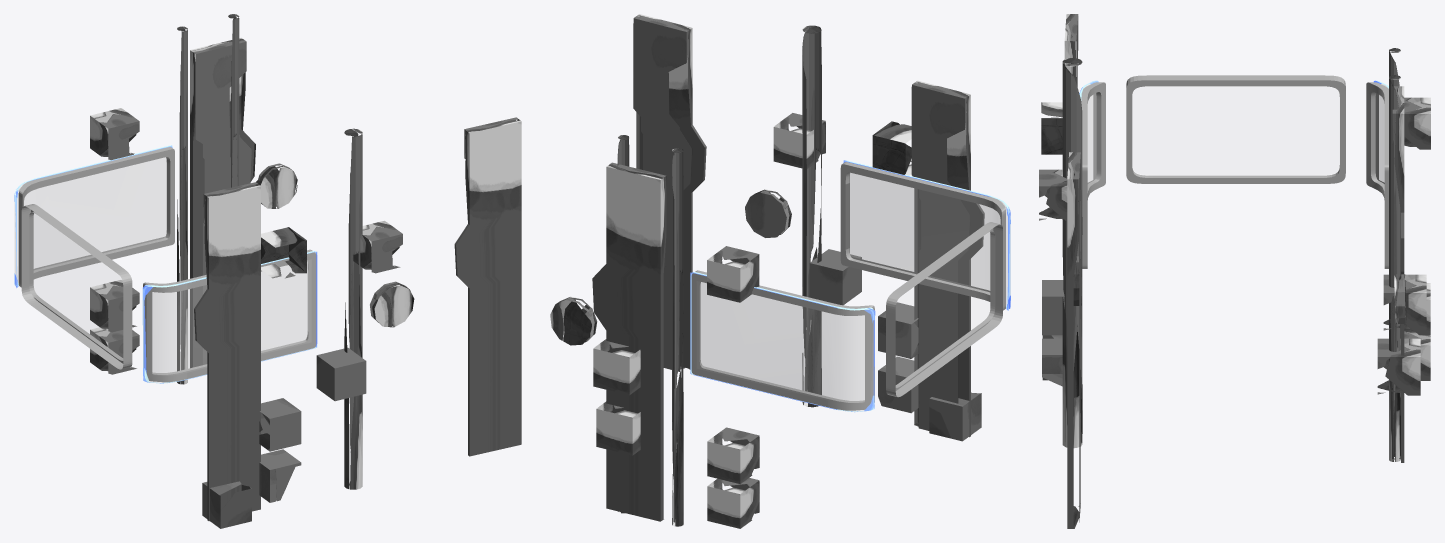
Rendered from scene_niveau_1_V2_murs_fenetres_decors.fbx.
3 views of the same model, side by side, from view 1: azimuth 30°, elevation 25°; view 2: azimuth 150°, elevation 25°; view 3: azimuth 270°, elevation 25° (orthographic). The views are drawn at different scales.
Parts seen in each view (by area): view 1: Cube.013, Cube.014, fenetre cote.001, fenetre cote, Cube.012, Cylinder.002, fenetre milieu, Cylinder.003, Cube.001, Cube.006, Cube.003, Cube.002 (+8 smaller); view 2: fenetre cote.001, Cube.012, Cube.014, fenetre cote, Cube.013, Cylinder.002, fenetre milieu, Cylinder.003, Cube.004, Cube.006, Cube.005, Cube.001 (+9 smaller); view 3: fenetre milieu, Cylinder.002, Cube.013, Cylinder.004, fenetre cote, fenetre cote.001, Cube.011, Cube.012, Cube.010, Cube.006, Cube, Cube.001 (+5 smaller).
Boxes of the visible parts, <box> form: Cube.013: <box>454,117,521,456</box>; Cube.014: <box>194,182,260,521</box>; fenetre cote.001: <box>14,145,174,287</box>; fenetre cote: <box>142,249,317,383</box>; Cube.012: <box>190,37,255,367</box>; Cylinder.002: <box>344,128,362,489</box>; fenetre milieu: <box>21,204,132,369</box>; Cylinder.003: <box>177,26,187,384</box>; Cube.001: <box>316,347,366,401</box>; Cube.006: <box>90,108,139,160</box>; Cube.003: <box>259,398,301,451</box>; Cube.002: <box>261,227,306,278</box>; fenetre cote.001: <box>690,270,875,412</box>; Cube.012: <box>592,162,666,521</box>; Cube.014: <box>911,80,984,437</box>; fenetre cote: <box>840,160,1010,310</box>; Cube.013: <box>633,14,706,371</box>; Cylinder.002: <box>802,25,821,407</box>; fenetre milieu: <box>886,222,1002,397</box>; Cylinder.003: <box>672,148,683,526</box>; Cube.004: <box>707,427,759,484</box>; Cube.006: <box>707,246,759,302</box>; Cube.005: <box>707,477,759,528</box>; Cube.001: <box>809,249,861,305</box>; fenetre milieu: <box>1126,75,1345,183</box>; Cylinder.002: <box>1062,58,1082,448</box>; Cube.013: <box>1067,152,1081,528</box>; Cylinder.004: <box>1389,75,1400,461</box>; fenetre cote: <box>1079,80,1105,268</box>; fenetre cote.001: <box>1366,80,1388,268</box>; Cube.011: <box>1377,338,1420,395</box>; Cube.012: <box>1392,86,1404,462</box>; Cube.010: <box>1383,274,1426,331</box>; Cube.006: <box>1404,97,1430,149</box>; Cube: <box>1039,169,1067,221</box>; Cube.001: <box>1042,280,1077,331</box>.
Bounding box in the file's own units: 444 × 403 × 375.
4 materials, 1 textured.
